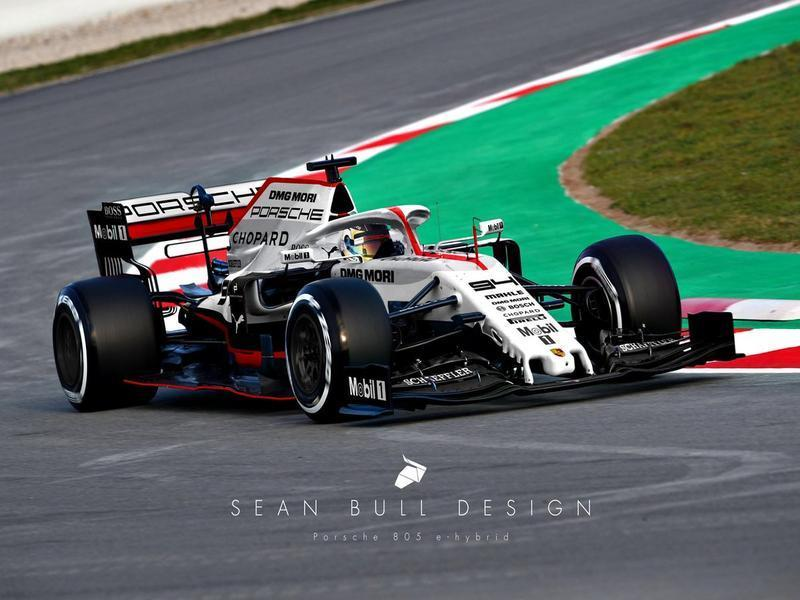f1: (48, 156, 736, 440)
